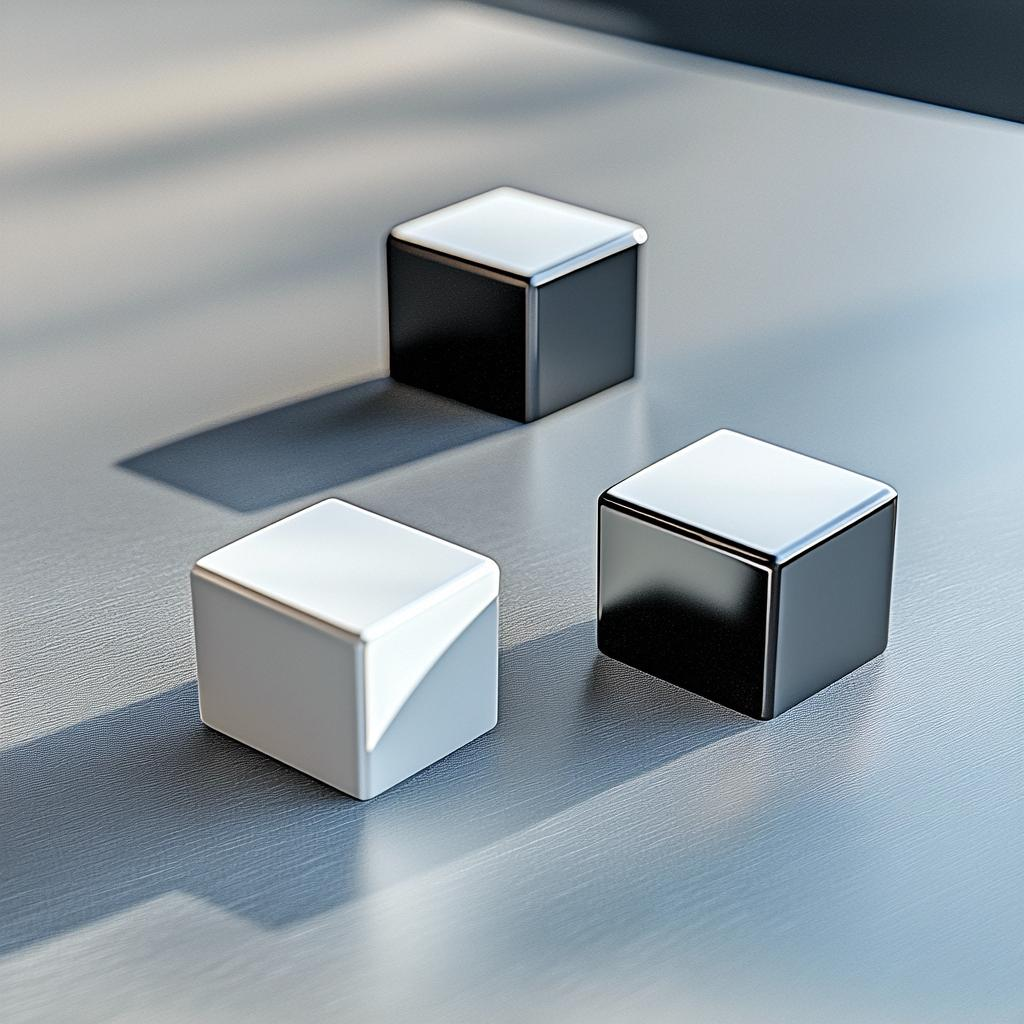cube: (189, 495, 500, 801), (595, 425, 898, 721), (385, 183, 647, 424)
